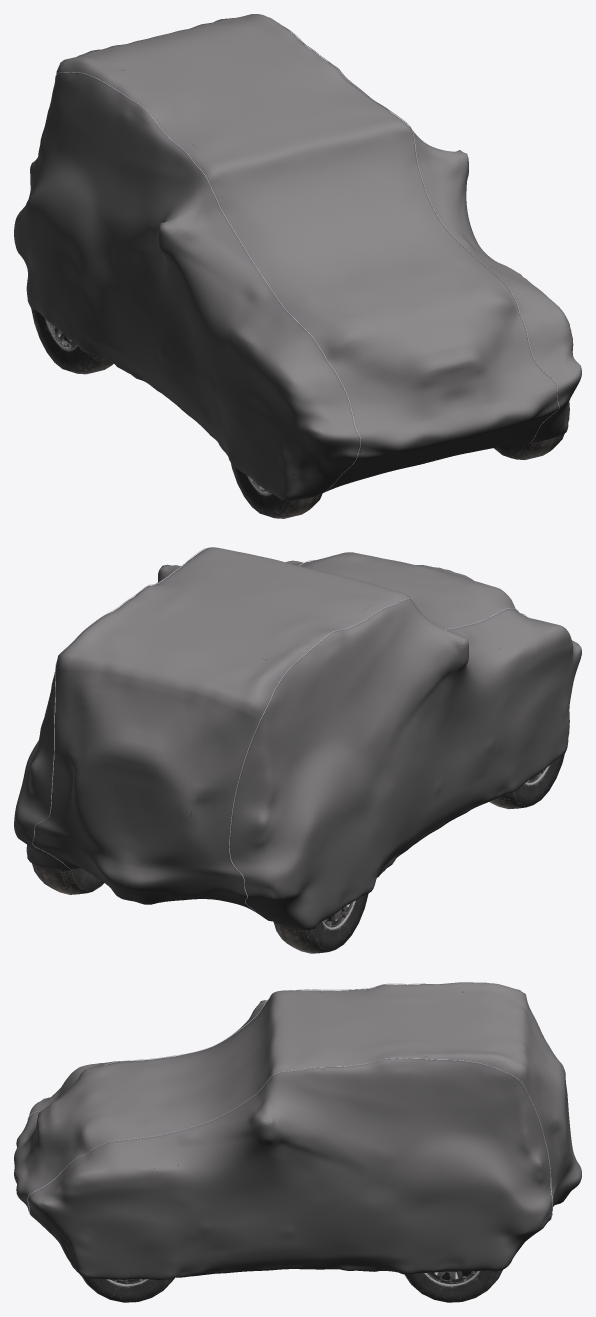
File: jeep.glb
3 renders of one model, top to bottom at view 1: azimuth 30°, elevation 25°; view 2: azimuth 150°, elevation 25°; view 3: azimuth 270°, elevation 25°, orthographic. The views are drawn at different scales.
Visible parts, largest first — view 1: CAPA, RODAS, LINHA; view 2: CAPA, RODAS, LINHA; view 3: CAPA, RODAS, LINHA.
Part boxes in pixels (box(x1,y1,x2,y2)): CAPA: box(14, 14, 581, 501); RODAS: box(31, 309, 564, 518); LINHA: box(55, 26, 559, 492); CAPA: box(14, 547, 581, 930); RODAS: box(32, 753, 564, 953); LINHA: box(32, 548, 526, 913); CAPA: box(14, 982, 581, 1279); RODAS: box(81, 1270, 502, 1302); LINHA: box(27, 983, 552, 1219).
Size of the model in its own units: 1.92 by 1.69 by 3.73.
Materials: 5 (4 with a texture image).
